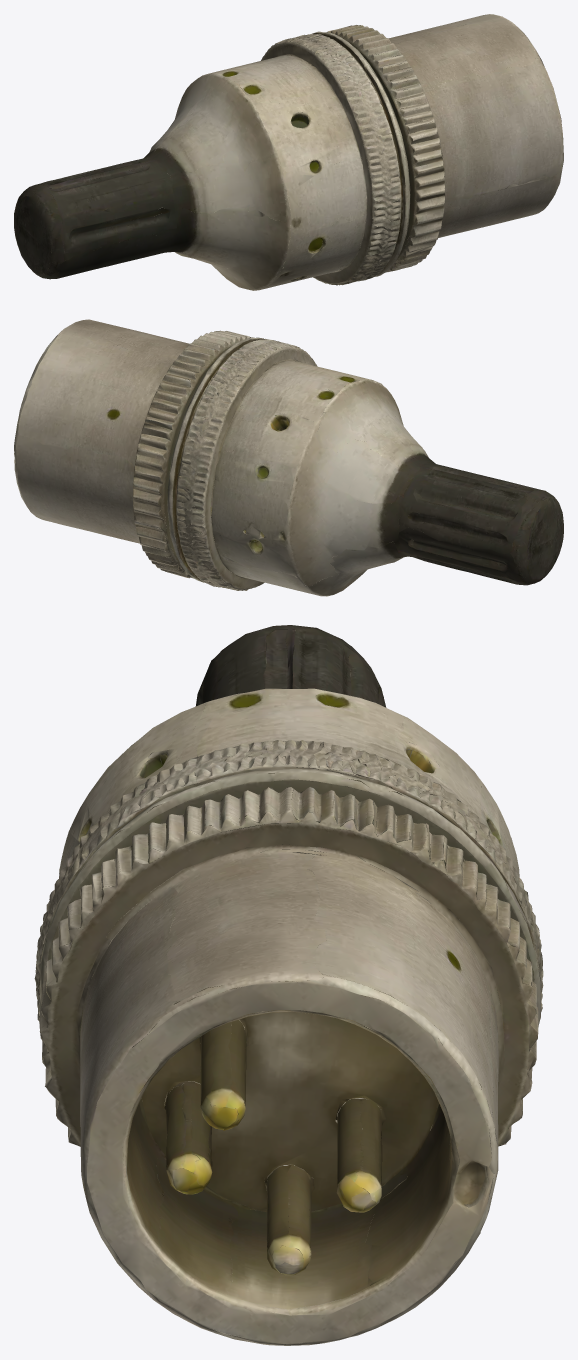
Rendered from prop-plug.glb.
The picture shows the model from 3 angles, top to bottom: view 1: azimuth 30°, elevation 25°; view 2: azimuth 150°, elevation 25°; view 3: azimuth 270°, elevation 25°; orthographic projection. The views are drawn at different scales.
Parts seen in each view (by area): view 1: Mesh_0; view 2: Mesh_0; view 3: Mesh_0.
Part boxes in pixels (left/top/right/bottom): Mesh_0: left=14, top=14, right=563, bottom=290; Mesh_0: left=14, top=319, right=563, bottom=596; Mesh_0: left=34, top=625, right=543, bottom=1345.
Size of the model in its own units: 1 by 0.4551 by 0.4573.
1 material, 1 textured.
